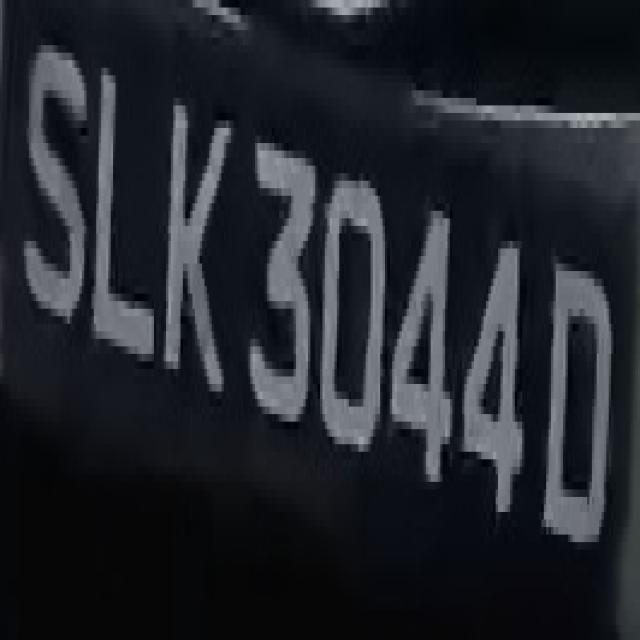0: (320, 143, 397, 489)
3: (248, 120, 313, 467)
4: (455, 234, 539, 542), (387, 180, 455, 504)
D: (536, 211, 618, 572)
K: (159, 75, 226, 414)
L: (91, 45, 154, 399)
S: (24, 15, 84, 331)
